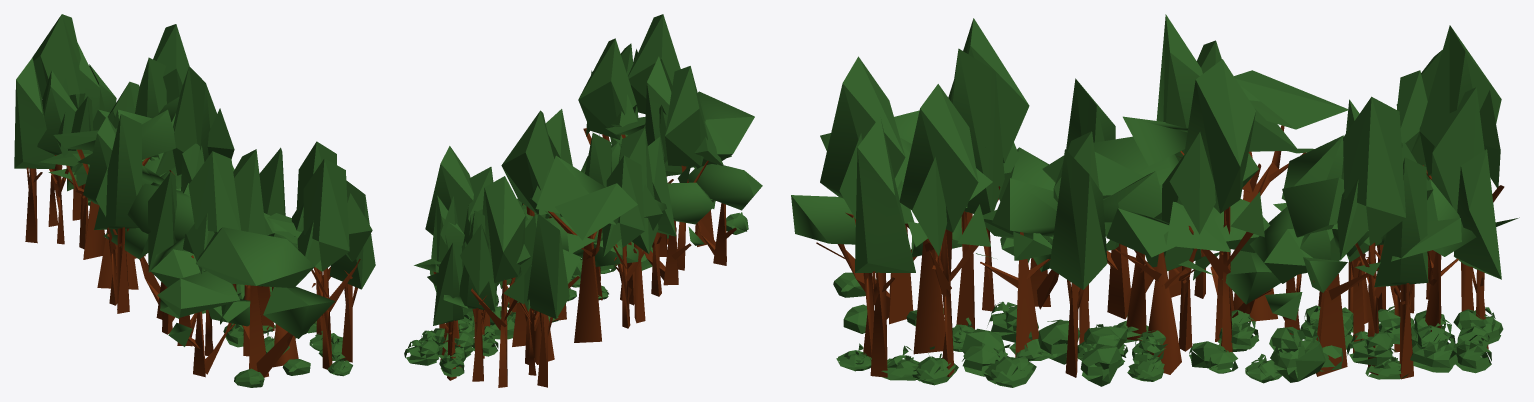
Rendered from forrest.glb.
3 views of the same model, side by side, from view 1: azimuth 30°, elevation 25°; view 2: azimuth 150°, elevation 25°; view 3: azimuth 270°, elevation 25° (orthographic). The views are drawn at different scales.
Visible parts, largest first — view 1: forrest; view 2: forrest; view 3: forrest.
Part boxes in pixels (left/top/right/bottom): forrest: left=14, top=14, right=375, bottom=387; forrest: left=404, top=14, right=762, bottom=387; forrest: left=791, top=14, right=1519, bottom=387.
Size of the model in its own units: 9.27 by 9.78 by 21.38.
